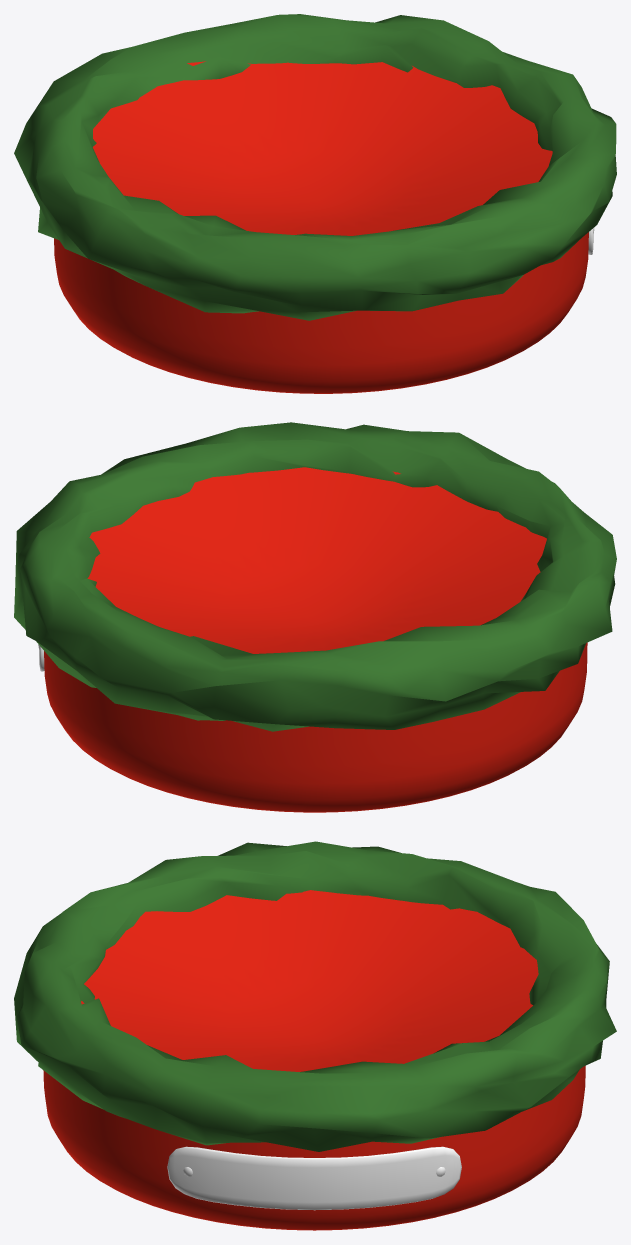
Rendered from bottom2.glb.
The picture shows the model from 3 angles, top to bottom: view 1: azimuth 30°, elevation 25°; view 2: azimuth 150°, elevation 25°; view 3: azimuth 270°, elevation 25°; orthographic projection.
Parts seen in each view (by area): view 1: mainColor, Torus; view 2: mainColor, Torus; view 3: mainColor, Torus, nameTag.
Part boxes in pixels (box(x1,y1,x2,y2)): mainColor: box(54, 61, 588, 393); Torus: box(14, 14, 616, 320); mainColor: box(44, 467, 587, 812); Torus: box(14, 422, 616, 731); mainColor: box(43, 890, 585, 1230); Torus: box(14, 841, 616, 1151); nameTag: box(167, 1146, 461, 1210).
Size of the model in its own units: 11.73 by 3.61 by 11.52.
